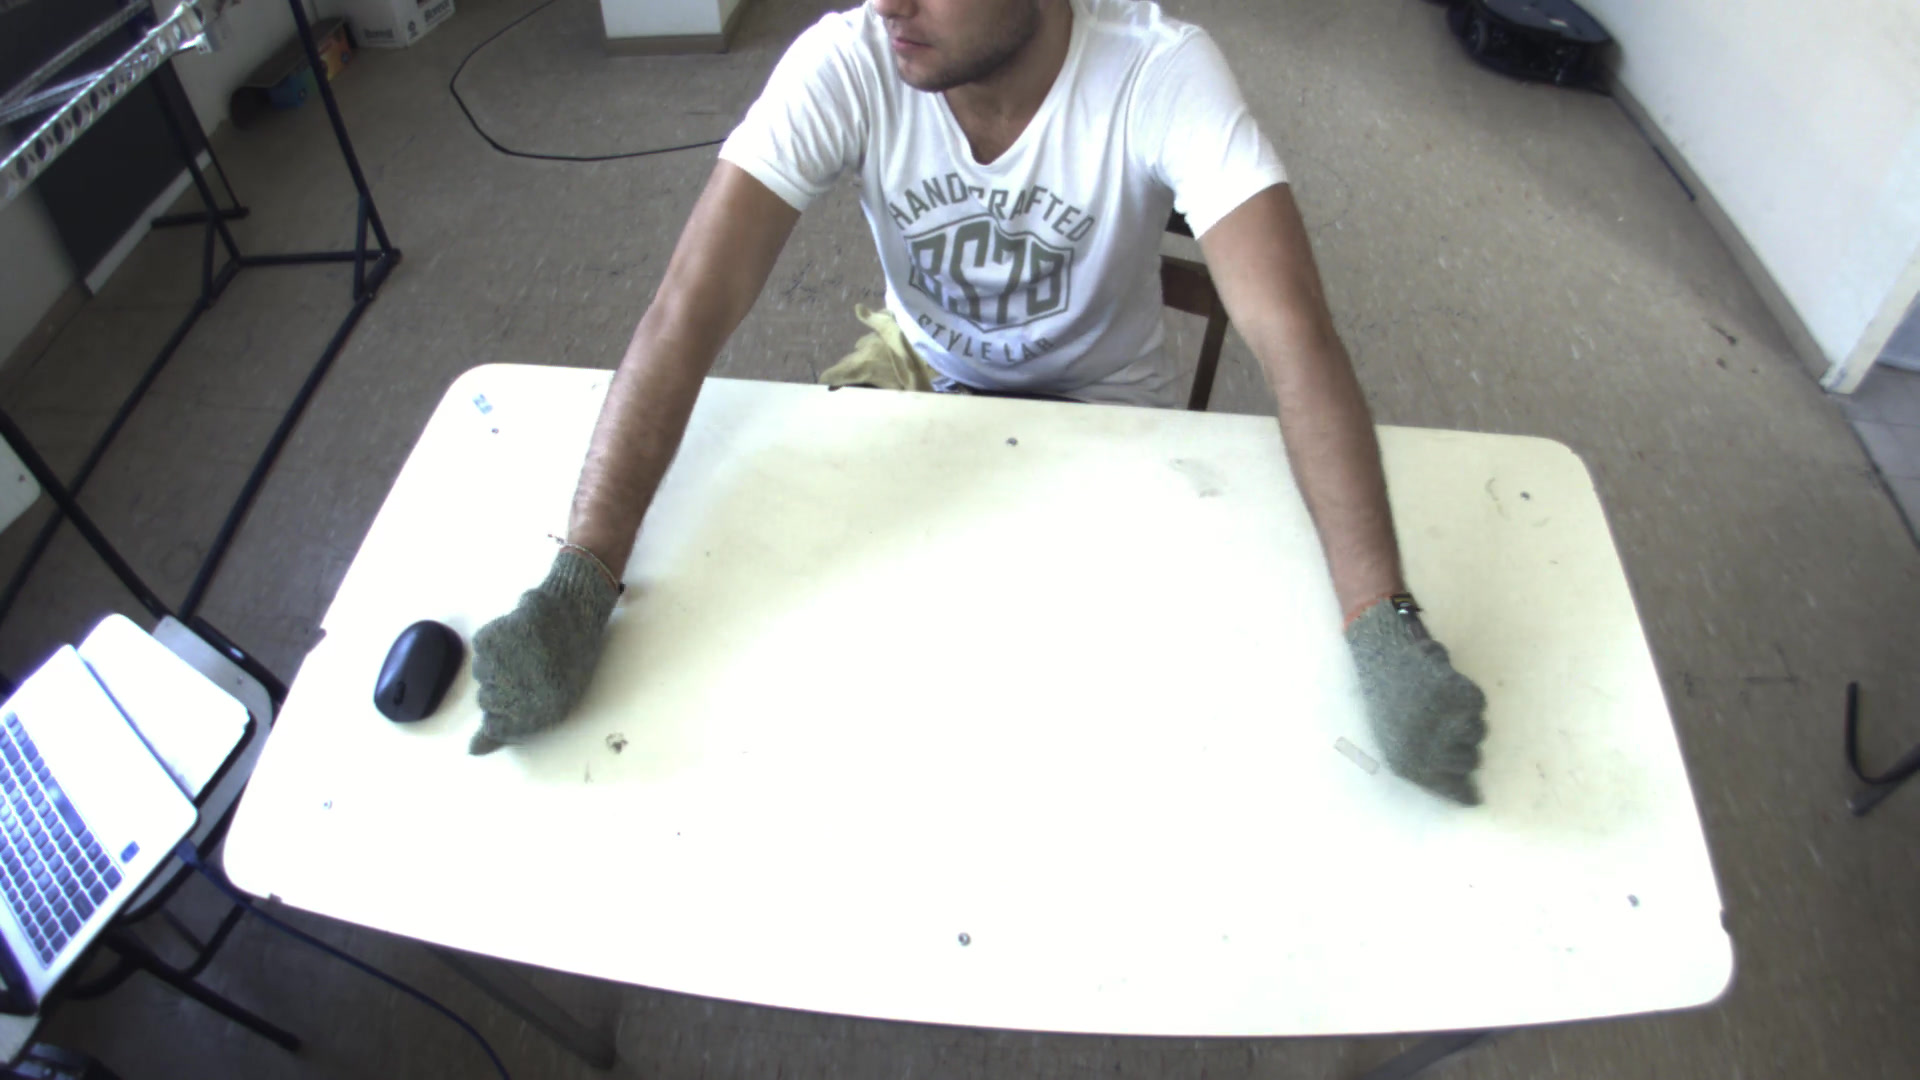hand: (454, 541, 628, 750), (1338, 597, 1502, 800)
